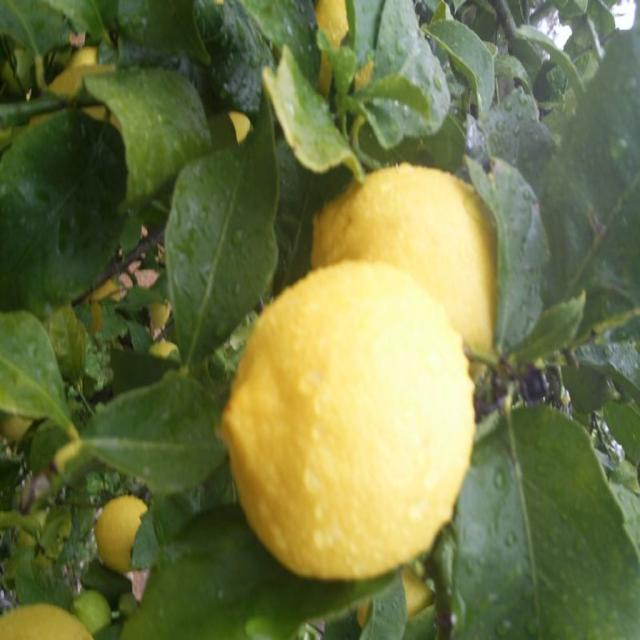Lemon: (222, 264, 475, 582), (312, 166, 502, 357), (28, 46, 122, 132), (314, 0, 373, 101), (358, 568, 436, 625), (93, 494, 149, 573), (0, 605, 93, 639), (82, 279, 127, 334), (76, 588, 108, 630), (1, 413, 32, 444), (150, 300, 171, 337), (146, 338, 178, 356)
